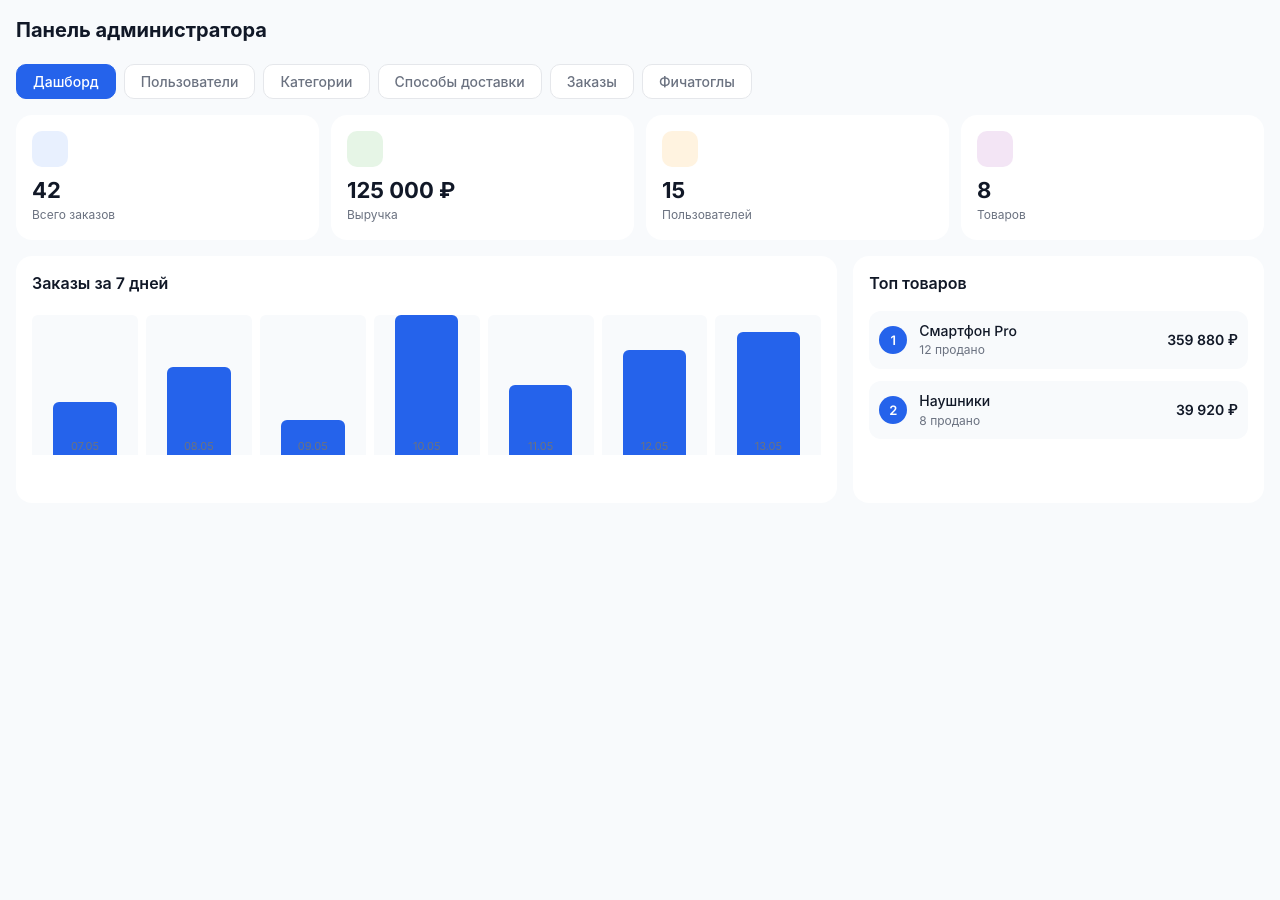
Admin.vue › отображает данные получателя в модалке заказа
Click the button with test id "admin-section-tab-orders". click: (592, 82)
box: x1=550 y1=64 x2=634 y2=99
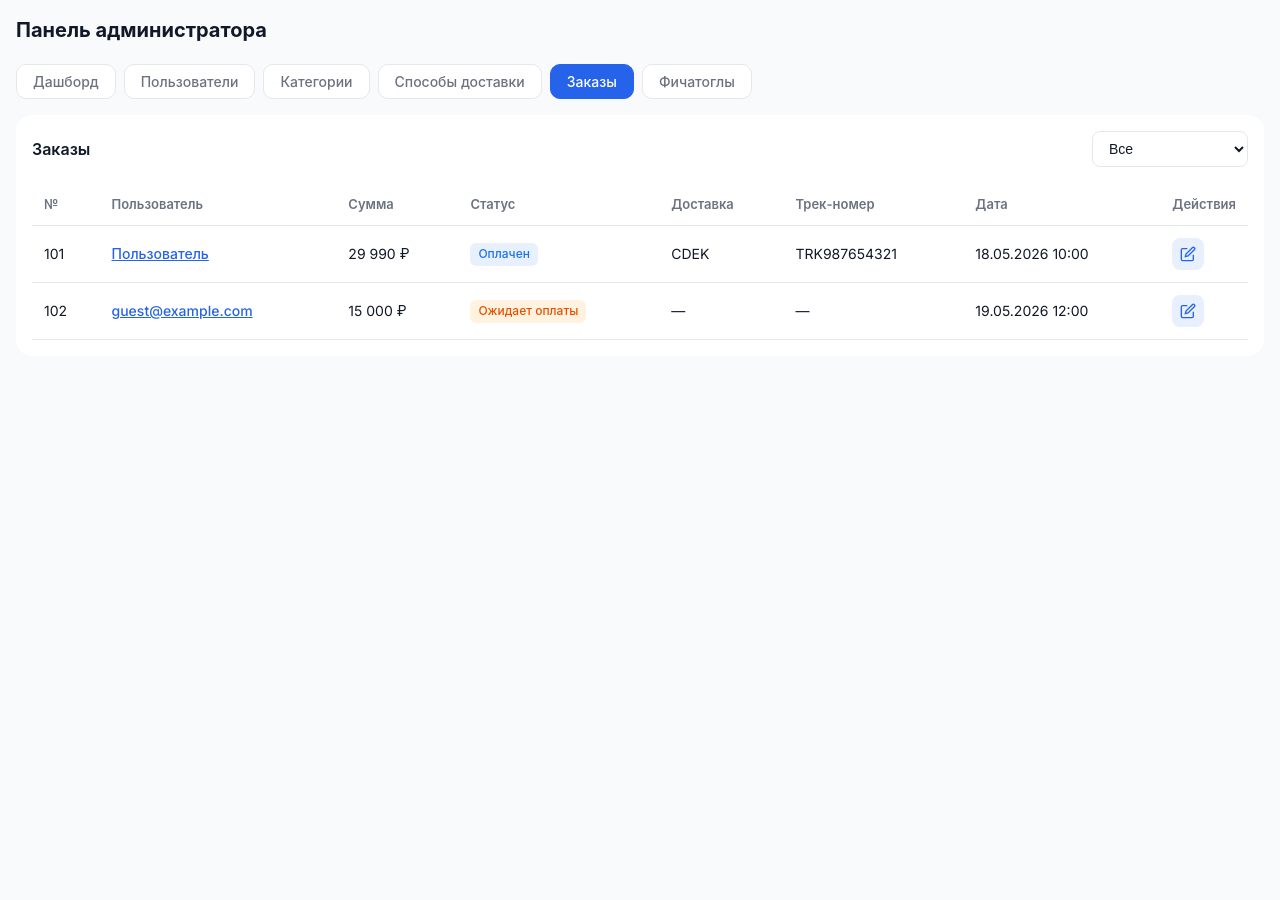
Expected: the button with class "admin__icon-btn--edit" in the row of "101" is shown
Click the button with class "admin__icon-btn--edit" in the row of "101". click: (1188, 254)
box: x1=1172 y1=238 x2=1204 y2=270
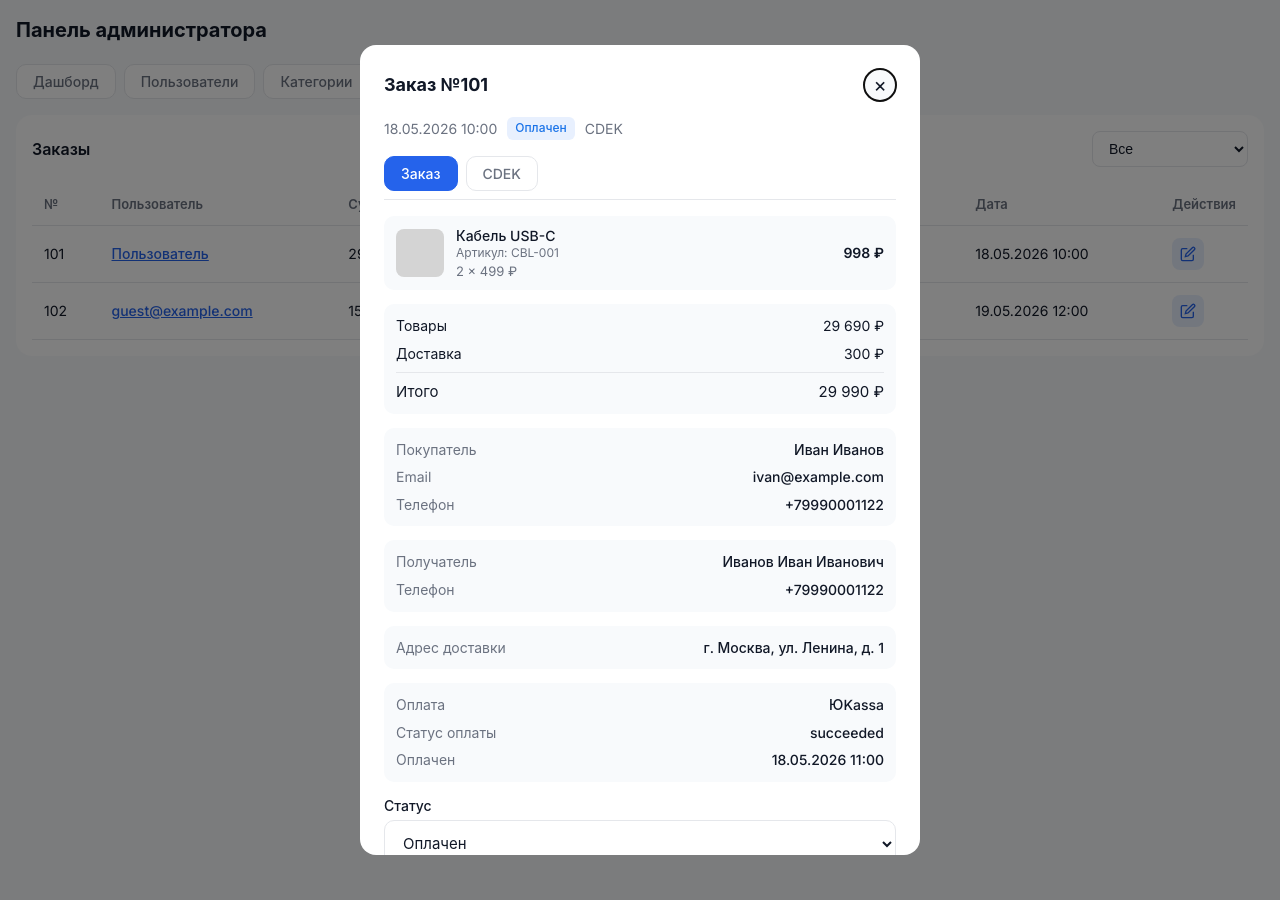
Expected: the text "Иванов Иван Иванович" is shown, x1=722 y1=552 x2=884 y2=572
Expected: the text with test id "order-modal-recipient-name" reads "Иванов Иван Иванович", x1=722 y1=553 x2=884 y2=570
Expected: the text with test id "order-modal-recipient-phone" is shown, x1=785 y1=580 x2=884 y2=600
